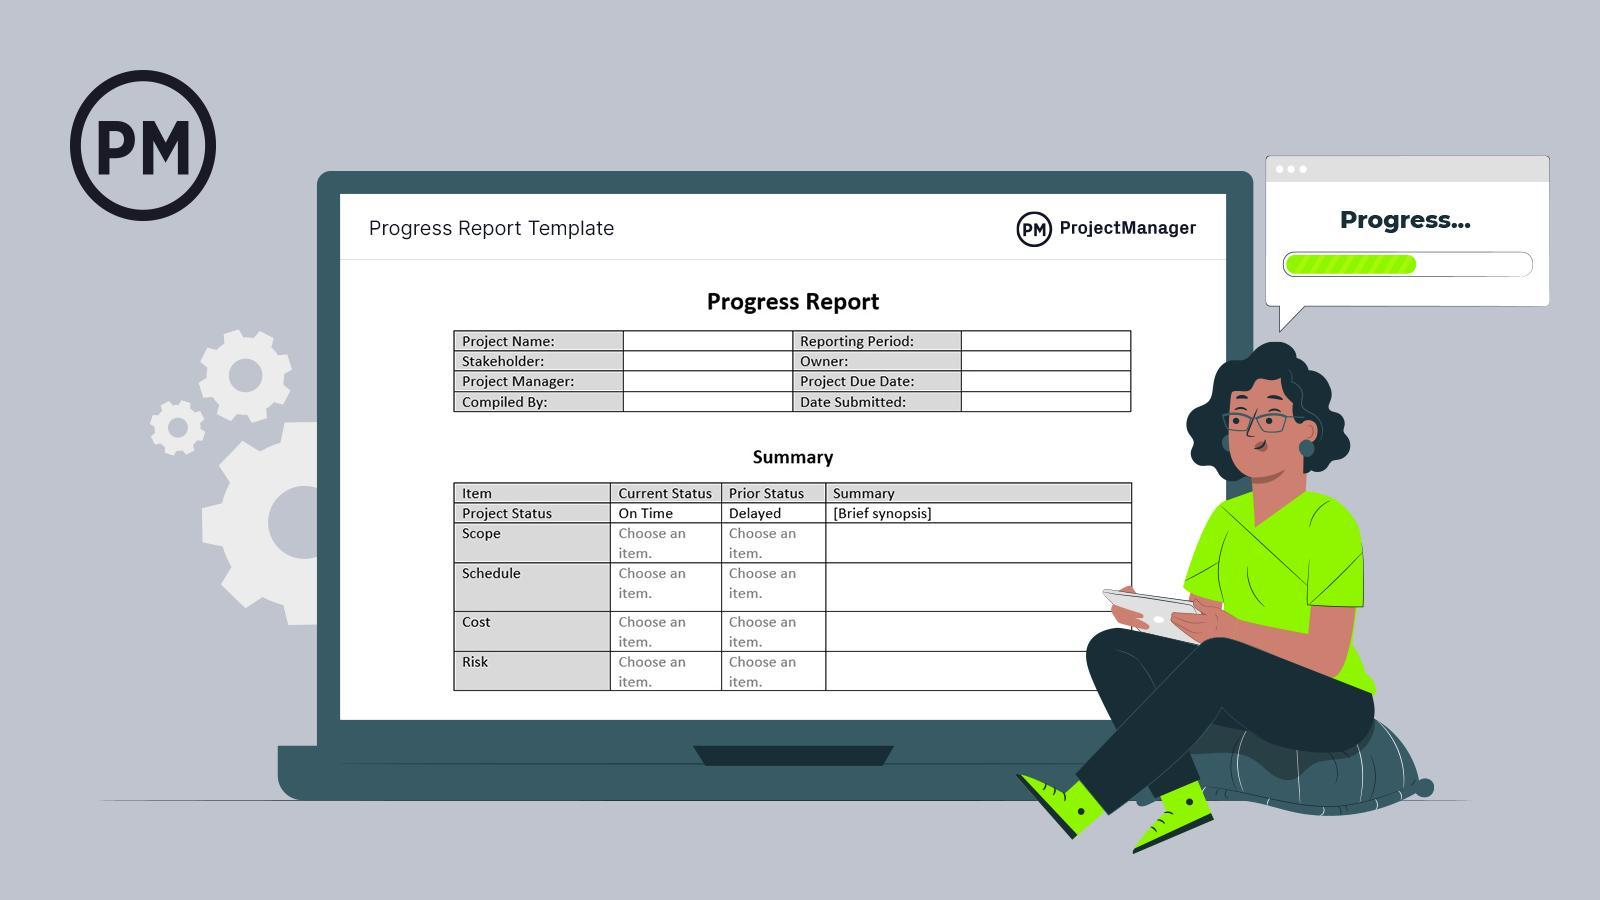table: (456, 484, 1134, 690), (452, 331, 1132, 410)
